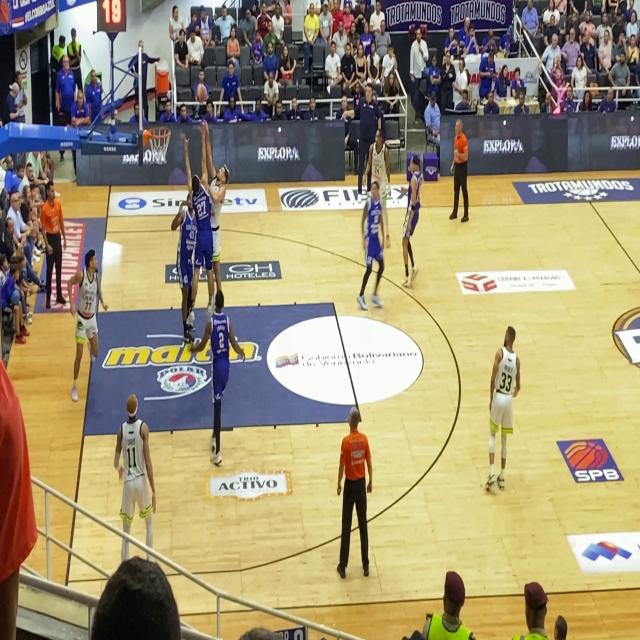Ball: (194, 76, 209, 109)
referee: (335, 388, 377, 587), (440, 107, 477, 239), (40, 176, 67, 334)
team1: (106, 379, 168, 559), (475, 308, 520, 512), (64, 243, 109, 411), (370, 119, 397, 261), (206, 142, 227, 295)
team2: (195, 282, 242, 480), (187, 142, 220, 299), (397, 145, 425, 311), (358, 176, 386, 323), (172, 185, 197, 346)
ubasket: (148, 123, 171, 163)
